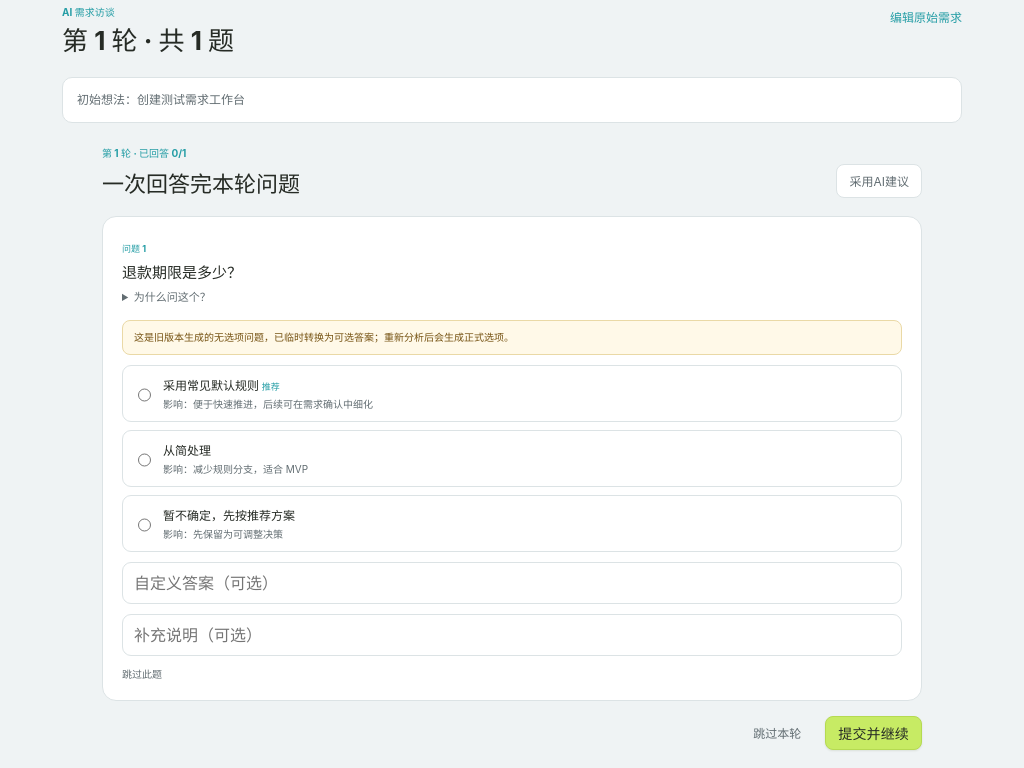
Scenario: QuestionWizardView › blocks answer submission before the backend returns HTTP 400 when model settings are incomplete
Click the radio button with test id "option-refund-window-:0".
click(144, 395)  # box x1=138 y1=379 x2=151 y2=411
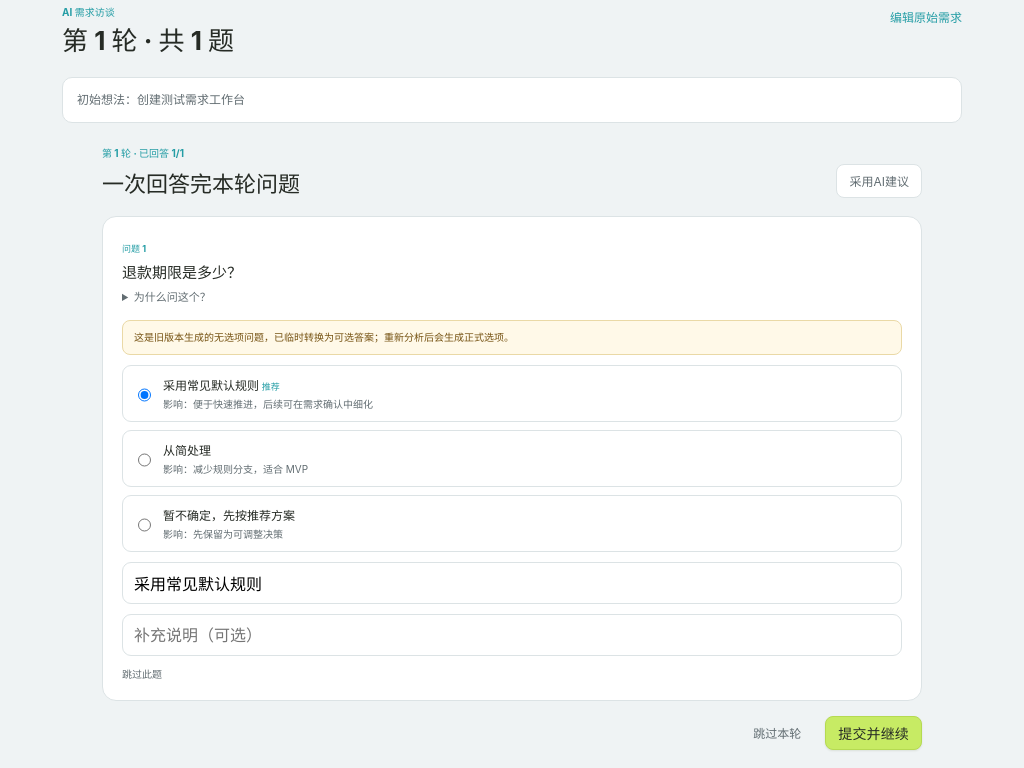
Click the button with test id "submit-batch".
click(874, 733)  # box x1=825 y1=716 x2=922 y2=750
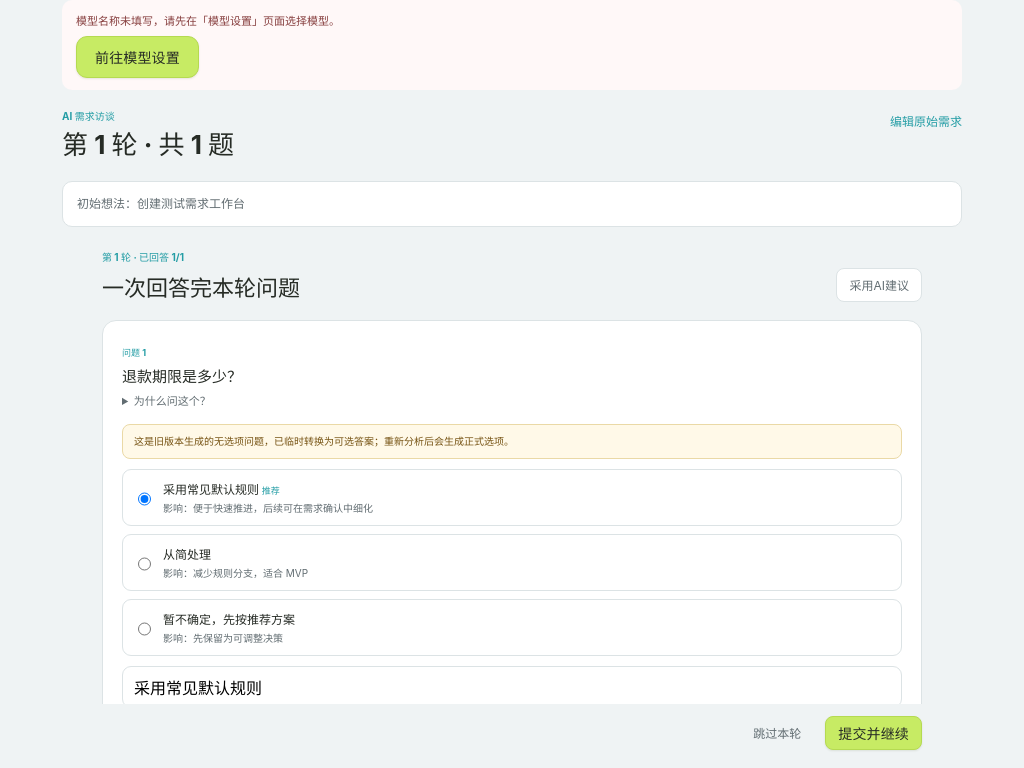
Expected: the text "模型名称未填写" is shown, x1=76 y1=14 x2=340 y2=28
Expected: the text "前往模型设置" is shown, x1=76 y1=36 x2=199 y2=78
